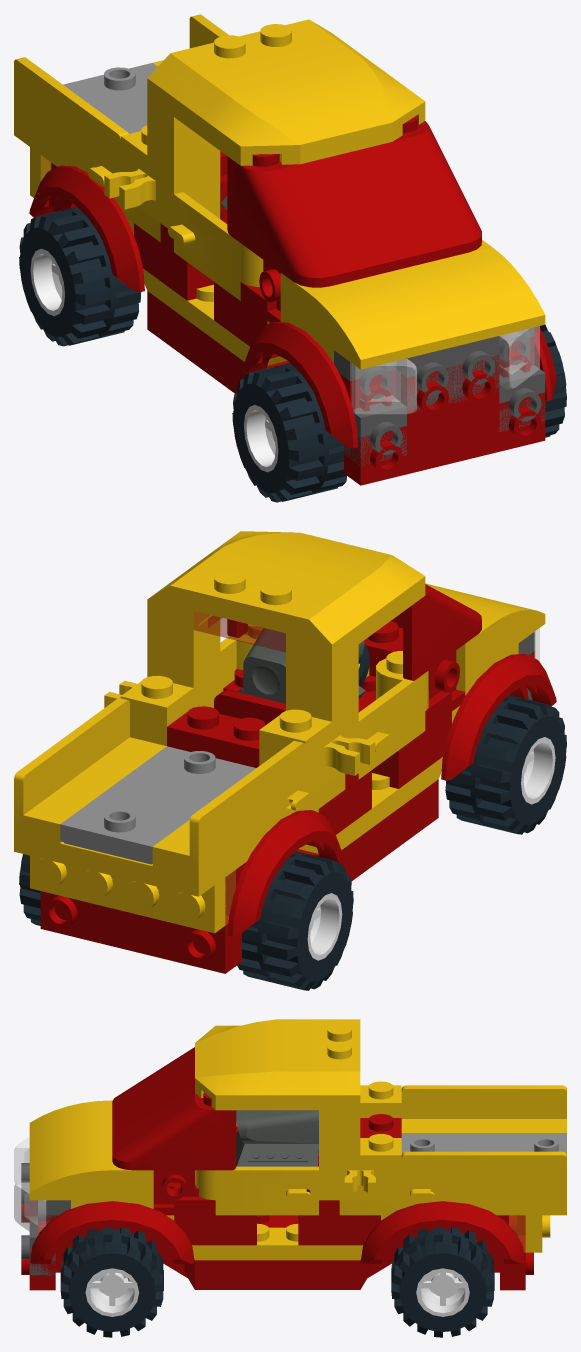
File: 001-generated_sports_car.glb
3 views of the same model, one above another, from view 1: azimuth 30°, elevation 25°; view 2: azimuth 150°, elevation 25°; view 3: azimuth 270°, elevation 25° (orthographic). The views are drawn at different scales.
Parts seen in each view (by area): view 1: 57783.dat, 45677.dat, 52038.dat (×2), 87697.dat (×3), 88930.dat, 98282.dat (×3), 30413.dat (×2), 3821.dat (×2), 52036.dat, 54200.dat (×2), 3001.dat (×2), 3004.dat (+11 smaller); view 2: 45677.dat, 87697.dat (×3), 30413.dat (×2), 98282.dat (×2), 3005.dat (×2), 3004.dat (×2), 3710.dat, 3794b.dat (×2), 3821.dat (×2), 3001.dat (×2), 52036.dat, 3245a.dat (×2) (+16 smaller); view 3: 30413.dat (×2), 87697.dat (×2), 45677.dat, 57783.dat, 98282.dat (×2), 88930.dat, 3822.dat (×2), 52036.dat, 3001.dat (×2), 3004.dat (×2), 50943.dat, 52038.dat (×3) (+14 smaller).
Boxes of the visible parts, x1=… form: 57783.dat: x1=227, y1=115, x2=481, y2=287; 45677.dat: x1=147, y1=19, x2=425, y2=165; 52038.dat (×2): x1=334, y1=327, x2=545, y2=485; 87697.dat (×3): x1=19, y1=207, x2=566, y2=502; 88930.dat: x1=307, y1=247, x2=545, y2=369; 98282.dat (×3): x1=29, y1=165, x2=556, y2=448; 30413.dat (×2): x1=14, y1=14, x2=228, y2=173; 3821.dat (×2): x1=87, y1=166, x2=263, y2=300; 52036.dat: x1=147, y1=291, x2=499, y2=454; 54200.dat (×2): x1=351, y1=326, x2=539, y2=414; 3001.dat (×2): x1=134, y1=221, x2=279, y2=358; 3004.dat: x1=120, y1=125, x2=220, y2=228; 45677.dat: x1=147, y1=531, x2=425, y2=663; 87697.dat (×3): x1=19, y1=695, x2=566, y2=990; 30413.dat (×2): x1=14, y1=698, x2=305, y2=877; 98282.dat (×2): x1=227, y1=654, x2=556, y2=936; 3005.dat (×2): x1=147, y1=615, x2=358, y2=721; 3004.dat (×2): x1=120, y1=669, x2=358, y2=794; 3710.dat: x1=30, y1=855, x2=225, y2=933; 3794b.dat (×2): x1=60, y1=746, x2=256, y2=864; 3821.dat (×2): x1=278, y1=651, x2=428, y2=820; 3001.dat (×2): x1=223, y1=669, x2=451, y2=846; 52036.dat: x1=87, y1=779, x2=438, y2=943; 3245a.dat (×2): x1=167, y1=621, x2=402, y2=767; 30413.dat (×2): x1=401, y1=1085, x2=566, y2=1200; 87697.dat (×2): x1=60, y1=1227, x2=494, y2=1337; 45677.dat: x1=195, y1=1019, x2=360, y2=1110; 57783.dat: x1=112, y1=1047, x2=236, y2=1170; 98282.dat (×2): x1=30, y1=1201, x2=525, y2=1263; 88930.dat: x1=29, y1=1100, x2=112, y2=1200; 3822.dat (×2): x1=195, y1=1166, x2=442, y2=1215; 52036.dat: x1=57, y1=1242, x2=497, y2=1289; 3001.dat (×2): x1=174, y1=1126, x2=380, y2=1245; 3004.dat (×2): x1=319, y1=1081, x2=401, y2=1200; 50943.dat: x1=236, y1=1110, x2=318, y2=1166; 52038.dat (×3): x1=21, y1=1163, x2=533, y2=1290.
Bounding box in the file's own units: 0.048 × 0.0532 × 0.107.
